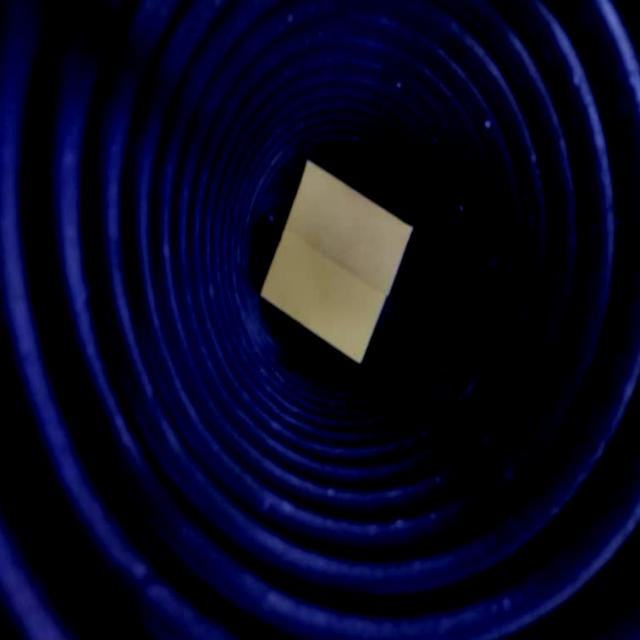obstacles: (254, 158, 416, 359)
